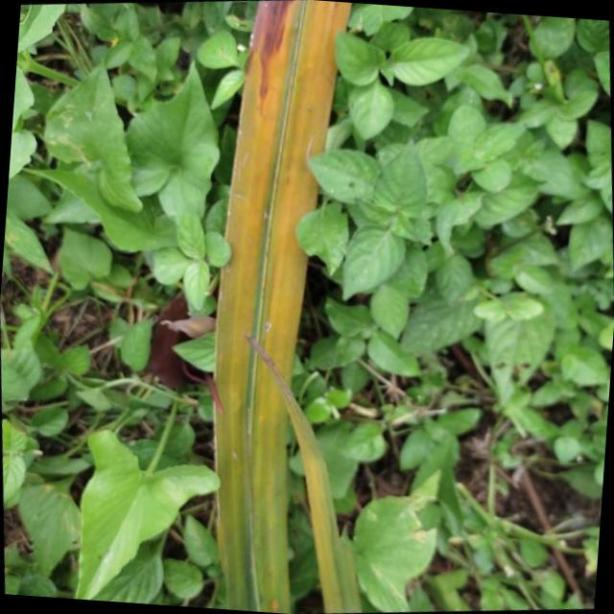Megnesium: (213, 0, 350, 614)
